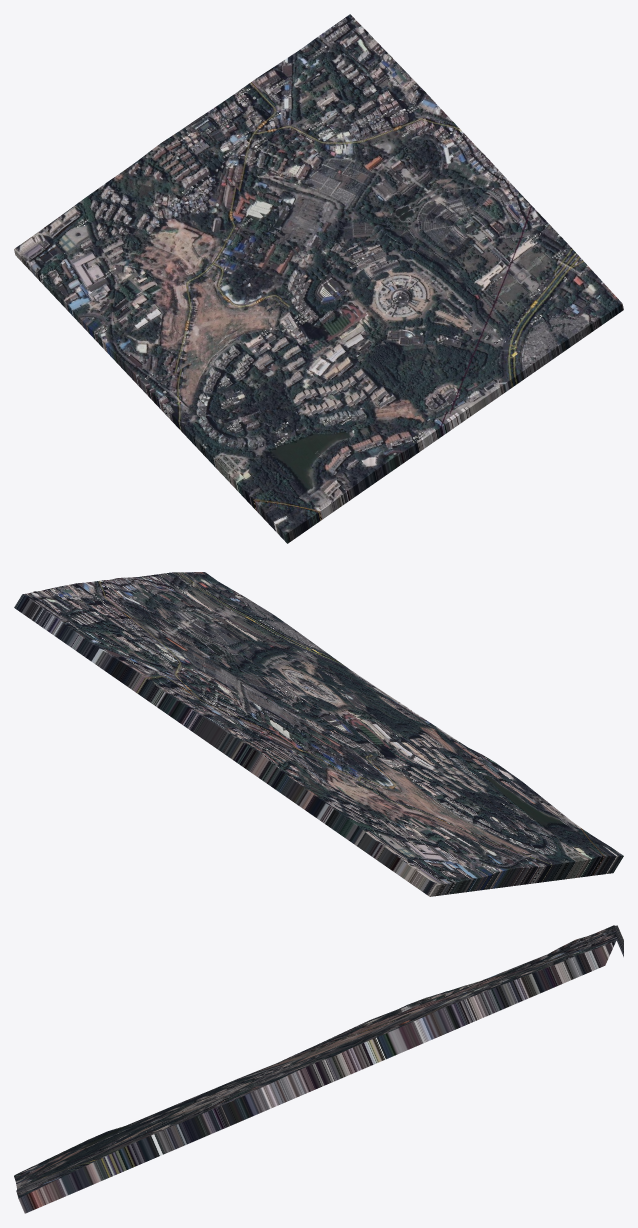
3 renders of one model, top to bottom at view 1: azimuth 30°, elevation 25°; view 2: azimuth 150°, elevation 25°; view 3: azimuth 270°, elevation 25°, orthographic. The views are drawn at different scales.
Parts seen in each view (by area): view 1: 1_1_12; view 2: 1_1_12; view 3: 1_1_12.
Part boxes in pixels (bbox=[...]): 1_1_12: bbox=[14, 14, 623, 543]; 1_1_12: bbox=[14, 572, 623, 896]; 1_1_12: bbox=[14, 925, 623, 1213].
Bounding box in the file's own units: 1233 × 915 × 1139.
1 material, 1 textured.
